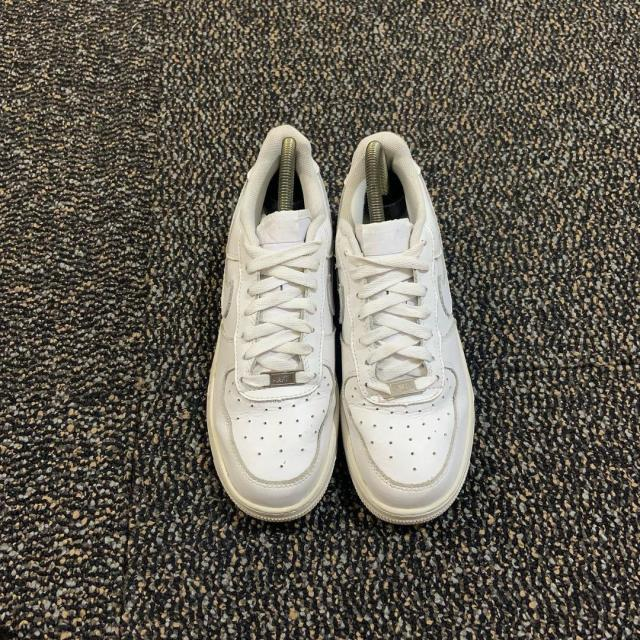nike fake air force: (338, 127, 483, 521), (205, 134, 339, 528)
